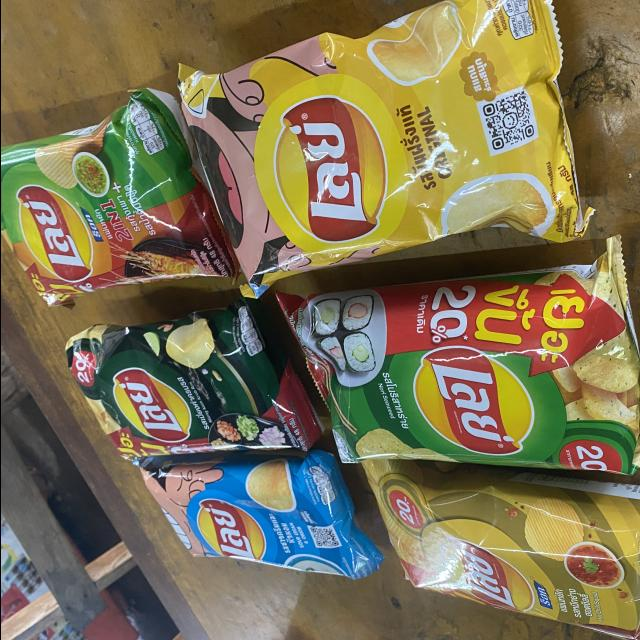plastik: (178, 0, 591, 296), (276, 236, 640, 474), (0, 88, 237, 307), (361, 460, 640, 640), (65, 299, 322, 460), (133, 451, 382, 579)
